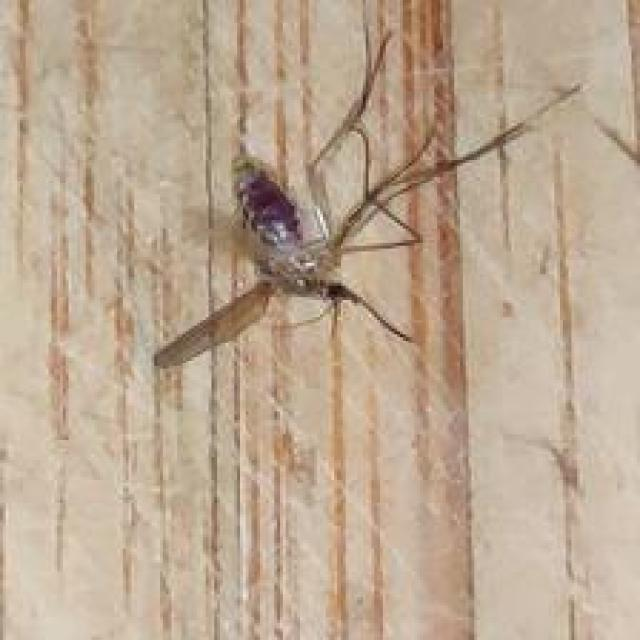Culex: (151, 1, 583, 370)
